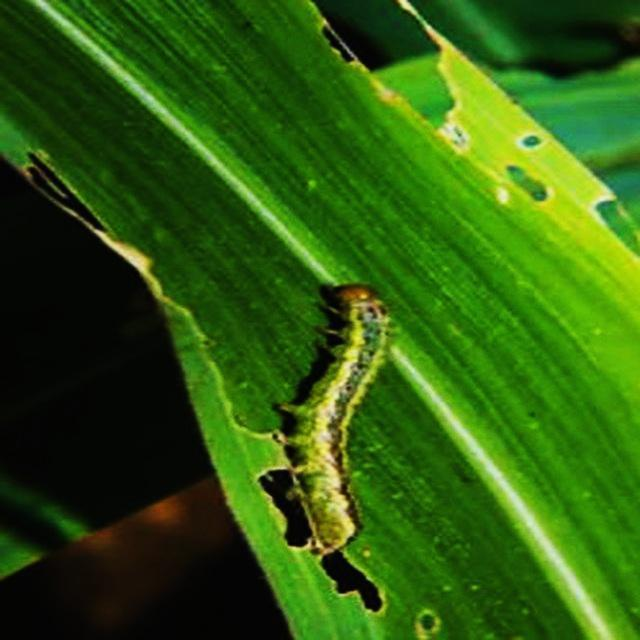gusano_cogollero: (276, 278, 398, 558)
